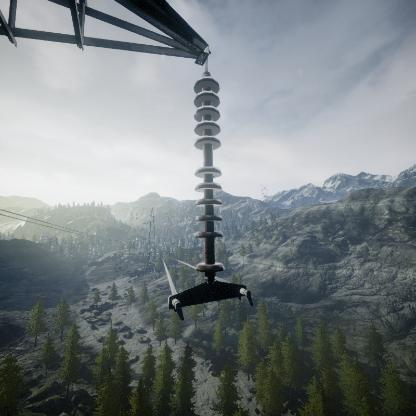insulator: (190, 71, 226, 280)
